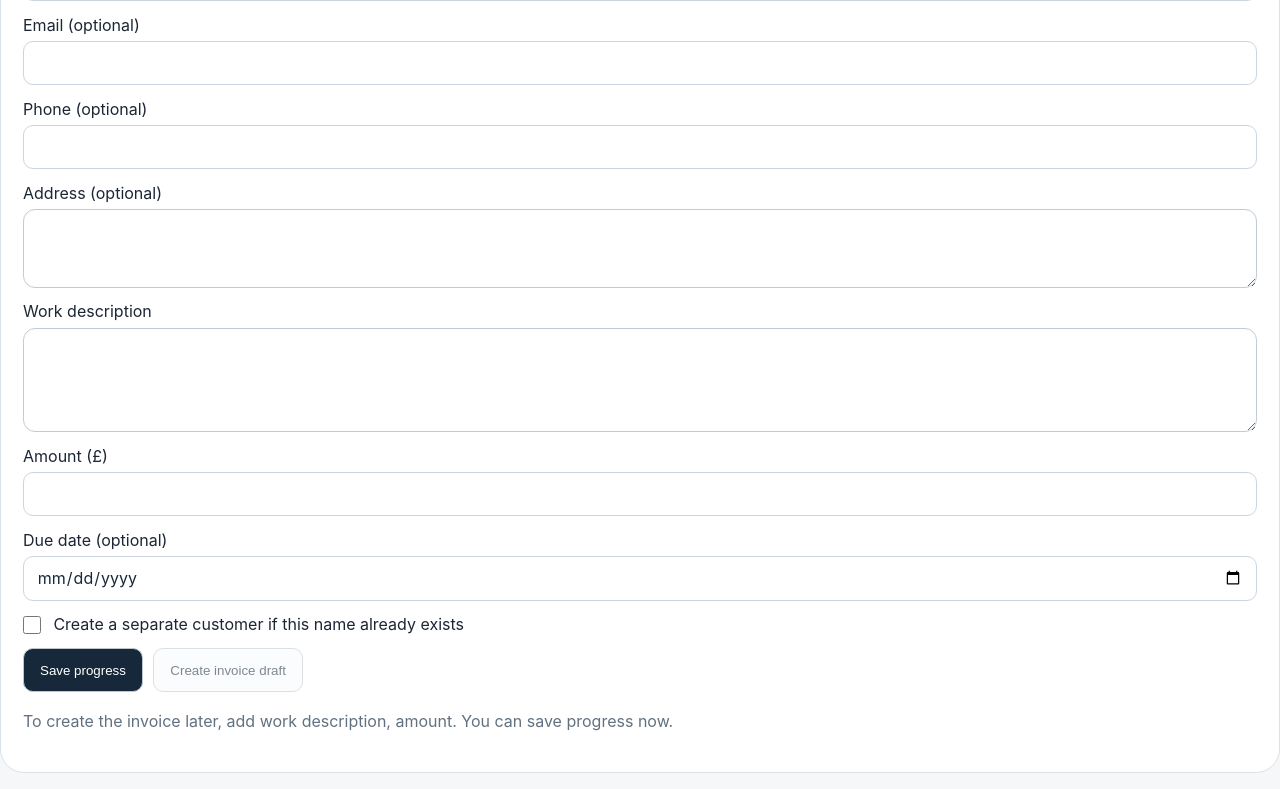
Scenario: an incomplete invoice can be saved without amount or contact fields
The width and height of the screenshot is (1280, 789).
(page scrolled)
Expected: the button "Create invoice draft" is disabled, 153,648 -> 303,692
Click the button "Save progress".
click(83, 670)  # box 23,648 -> 143,692
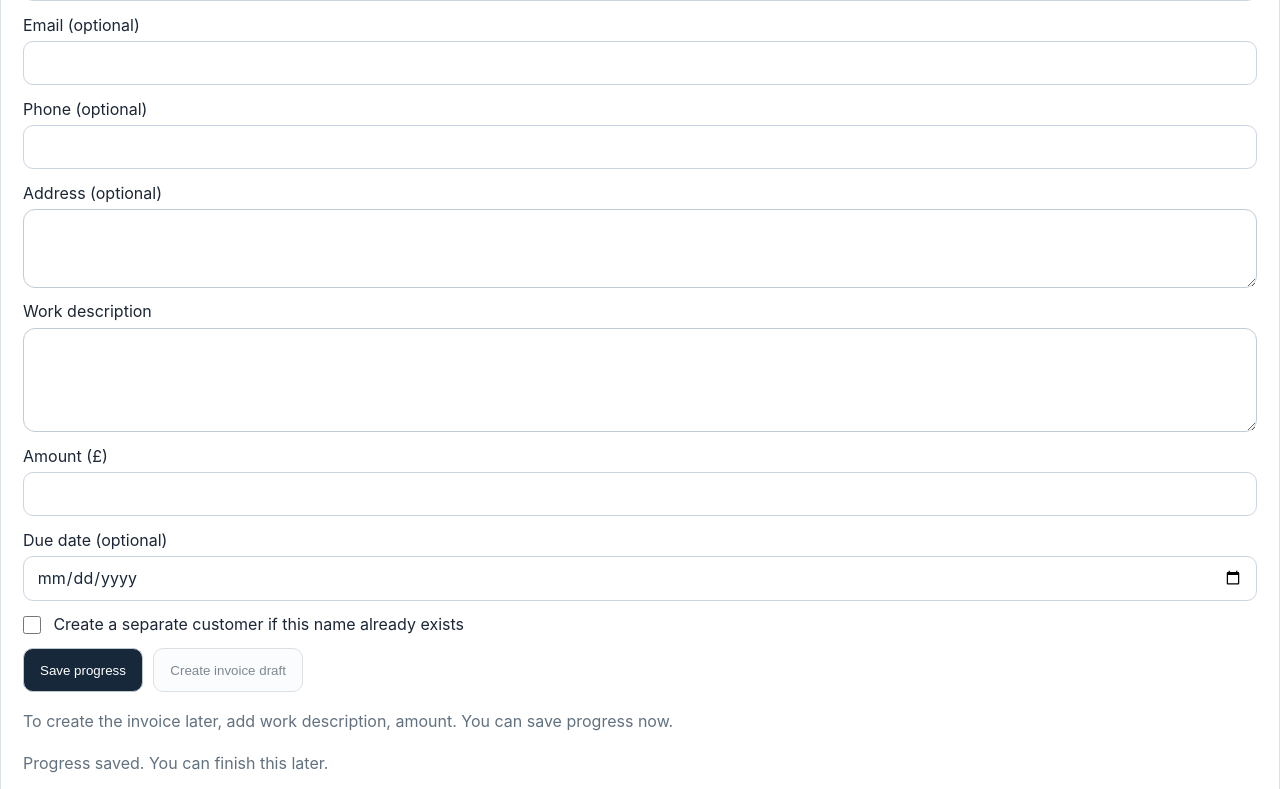
Result: the text "Progress saved. You can finish this later." is shown at 23,753 -> 328,773
